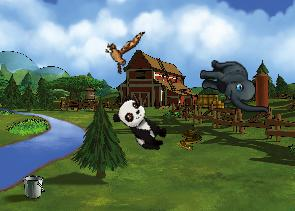eagle: (100, 24, 145, 77)
elephant: (199, 59, 269, 116)
panda: (108, 93, 174, 156)
